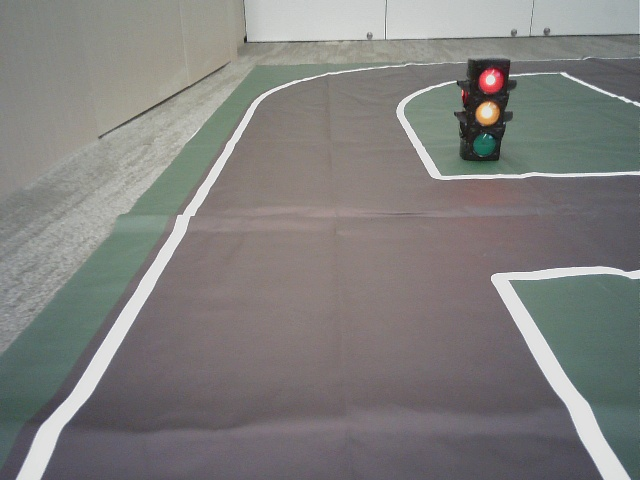red: (470, 60, 502, 158)
